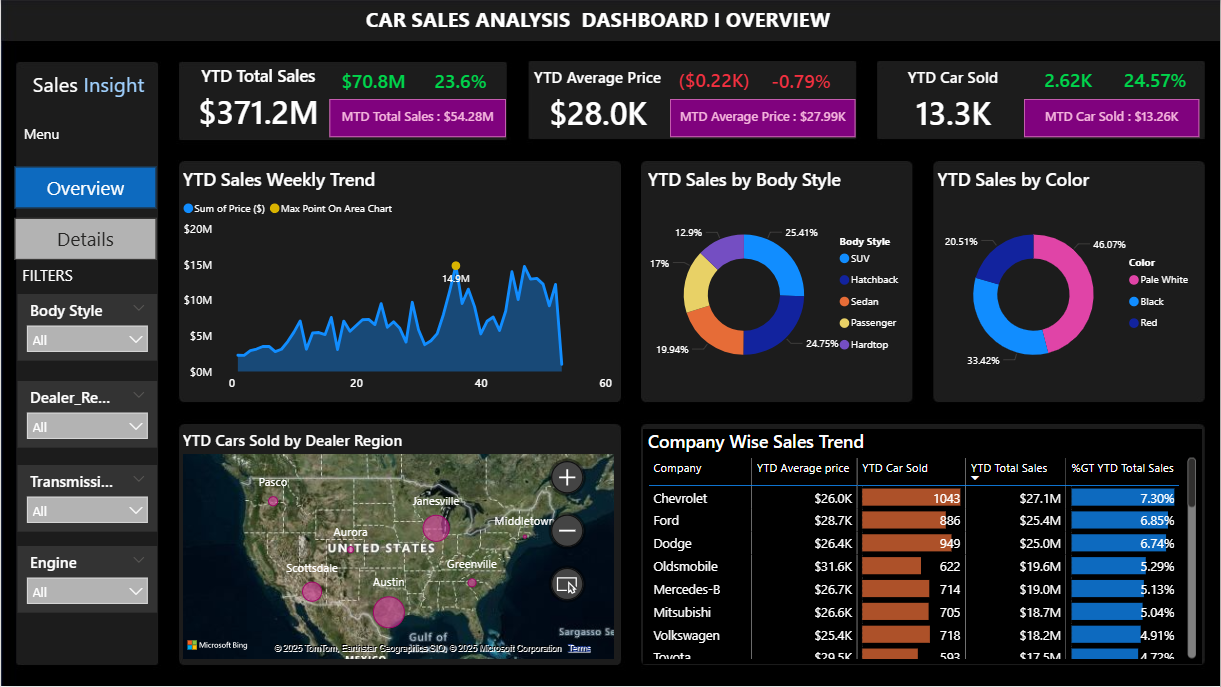

The dashboard page shown, as its layout file describes it:
{"tool":"powerbi","page":{"name":"Overview ","canvas":[1280,720],"ordinal":0},"visuals":[{"type":"card","title":"YTD Total Sales","fields":{"Values":["car_data.YTD Total Sales"]},"box":[195.4,68.3,149.3,76.3],"z":0},{"type":"card","title":"PYTD Sales","fields":{"Values":["car_data.Sales Difference"]},"box":[344.9,67.9,91.9,36],"z":1000},{"type":"card","title":"PYTD Sales","fields":{"Values":["car_data.YOY Sales Growth"]},"box":[436.8,67.9,91.9,36],"z":2000},{"type":"card","fields":{"Values":["car_data.MTD KPI"]},"box":[344.9,103.9,185.1,40],"z":3000},{"type":"card","title":"YTD Average Price","fields":{"Values":["car_data.YTD Average price"]},"box":[551.9,69,150.3,76.1],"z":4000},{"type":"card","title":"PYTD Sales","fields":{"Values":["car_data.Average Price Difference"]},"box":[702,67.9,92,35.4],"z":5000},{"type":"card","title":"PYTD Sales","fields":{"Values":["car_data.YOY Average Price Growth"]},"box":[793.7,67.9,91.9,36],"z":6000},{"type":"card","fields":{"Values":["car_data.MTD Average Price KPI"]},"box":[701.8,103.9,194.4,40],"z":7000},{"type":"card","title":"YTD Car Sold","fields":{"Values":["car_data.YTD Car Sold"]},"box":[924.3,69.4,150,76.4],"z":8000},{"type":"card","title":"PYTD Sales","fields":{"Values":["car_data.Car Sold Difference"]},"box":[1074.3,67.9,92,35.4],"z":9000},{"type":"card","title":"PYTD Sales","fields":{"Values":["car_data.YOY Car Sold Growth"]},"box":[1166.3,67.9,92,35.4],"z":10000},{"type":"card","fields":{"Values":["car_data.MTD Car Sold KPI"]},"box":[1074.7,103.9,183.8,40],"z":11000},{"type":"donutChart","title":"YTD  Sales by Body Style","fields":{"Y":["Sum(car_data.Price ($))"],"Category":["car_data.Body Style"]},"box":[673.8,174.5,282.3,243.7],"z":12000},{"type":"donutChart","title":"YTD Sales by Color","fields":{"Y":["Sum(car_data.Price ($))"],"Category":["car_data.Color"]},"box":[978.8,174.5,282.3,243.7],"z":13000},{"type":"map","title":"YTD Cars Sold by Dealer Region","fields":{"Category":["car_data.Dealer_Region"],"Size":["car_data.YTD Car Sold"]},"box":[186.4,450.1,463.4,246.4],"z":14000},{"type":"areaChart","title":"YTD  Sales Weekly Trend","fields":{"Y":["Sum(car_data.Price ($))","car_data.Max Point On Area Chart"],"Category":["Calender Table.Week Number"]},"box":[186.4,174.5,463.4,245],"z":15000},{"type":"tableEx","title":"Company Wise Sales Trend","fields":{"Values":["car_data.Company","car_data.YTD Average price","car_data.YTD Car Sold","car_data.YTD Total Sales1","car_data.YTD Total Sales"]},"box":[674.1,450.5,585.9,245.7],"z":16000},{"type":"textbox","box":[378.2,0,518,42.6],"z":17000},{"type":"slicer","fields":{"Values":["car_data.Body Style"]},"box":[17.3,309,146.5,70],"z":18000},{"type":"slicer","fields":{"Values":["car_data.Dealer_Region"]},"box":[17.3,399.5,146.5,70],"z":19000},{"type":"slicer","fields":{"Values":["car_data.Transmission"]},"box":[17.3,488.7,146.5,70],"z":20000},{"type":"slicer","fields":{"Values":["car_data.Engine"]},"box":[17.3,574,146.5,70],"z":21000},{"type":"textbox","box":[17.3,273,73.2,36],"z":22000},{"type":"textbox","box":[17.3,67.9,149.2,41.3],"z":22001},{"type":"textbox","box":[18.6,123.8,73.2,32],"z":22002},{"type":"pageNavigator","box":[14.6,174.5,149.2,98.5],"z":22003}]}

Visuals, with their boxes in screenshot pixels (x1, y1, x2, y2), scaled from the page's 1280x720 canvas onto the 1221x687 screenshot:
"YTD Total Sales" card: box(186, 65, 329, 138)
"PYTD Sales" card: box(329, 65, 417, 99)
"PYTD Sales" card: box(417, 65, 504, 99)
card - car_data.MTD KPI: box(329, 99, 506, 137)
"YTD Average Price" card: box(526, 66, 670, 138)
"PYTD Sales" card: box(670, 65, 757, 99)
"PYTD Sales" card: box(757, 65, 845, 99)
card - car_data.MTD Average Price KPI: box(669, 99, 855, 137)
"YTD Car Sold" card: box(882, 66, 1025, 139)
"PYTD Sales" card: box(1025, 65, 1113, 99)
"PYTD Sales" card: box(1113, 65, 1200, 99)
card - car_data.MTD Car Sold KPI: box(1025, 99, 1200, 137)
"YTD  Sales by Body Style" donutChart: box(643, 167, 912, 399)
"YTD Sales by Color" donutChart: box(934, 167, 1203, 399)
"YTD Cars Sold by Dealer Region" map: box(178, 429, 620, 665)
"YTD  Sales Weekly Trend" areaChart: box(178, 167, 620, 400)
"Company Wise Sales Trend" tableEx: box(643, 430, 1202, 664)
textbox: box(361, 0, 855, 41)
slicer - car_data.Body Style: box(17, 295, 156, 362)
slicer - car_data.Dealer_Region: box(17, 381, 156, 448)
slicer - car_data.Transmission: box(17, 466, 156, 533)
slicer - car_data.Engine: box(17, 548, 156, 614)
textbox: box(17, 260, 86, 295)
textbox: box(17, 65, 159, 104)
textbox: box(18, 118, 88, 149)
pageNavigator: box(14, 167, 156, 260)
